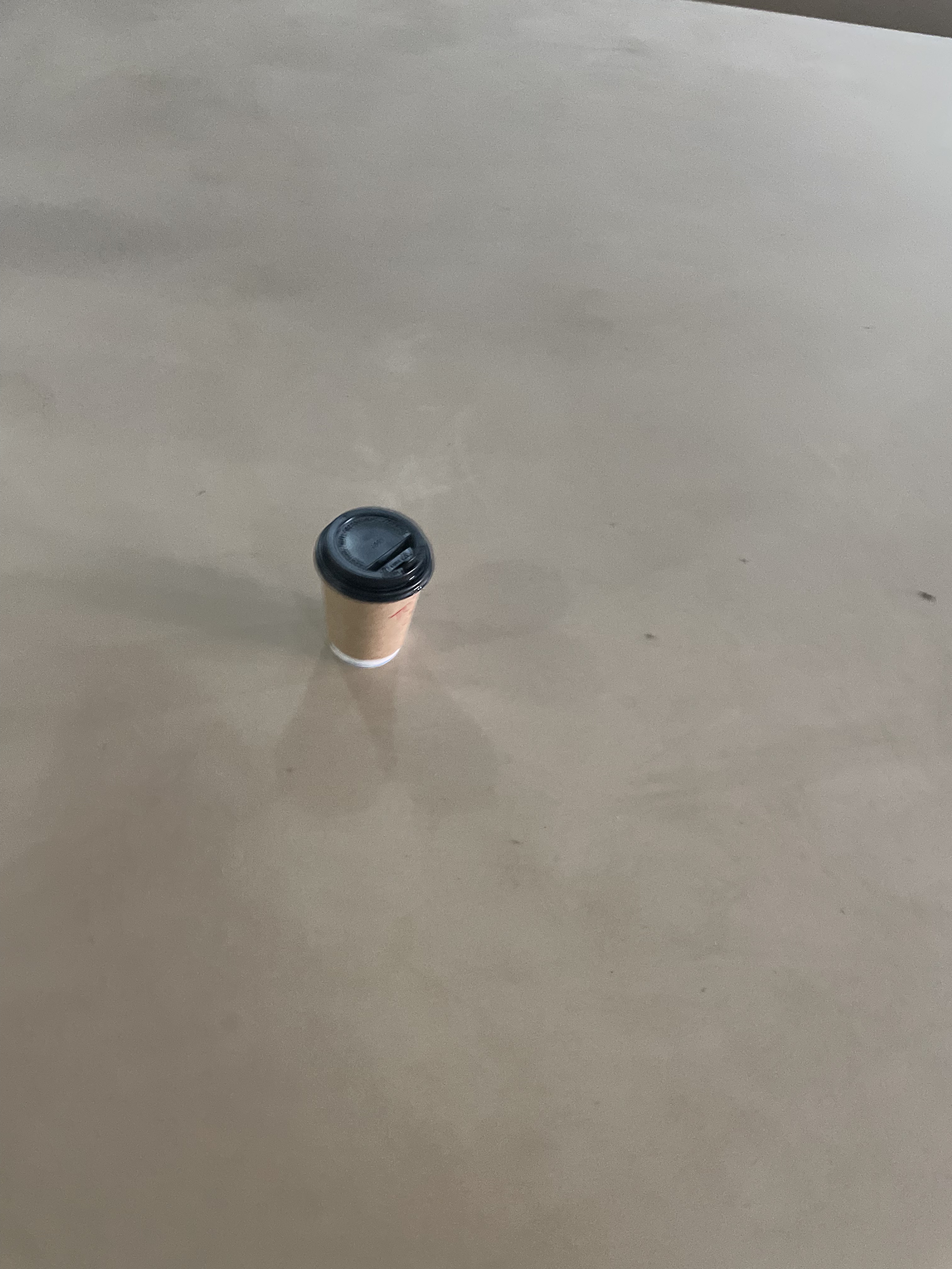cup: (313, 505, 435, 668)
